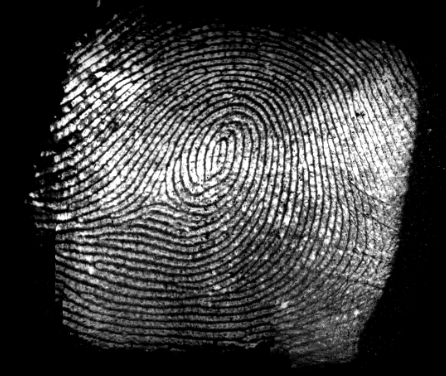deltas: (134, 172, 181, 219)
nucleo: (193, 130, 239, 179)
